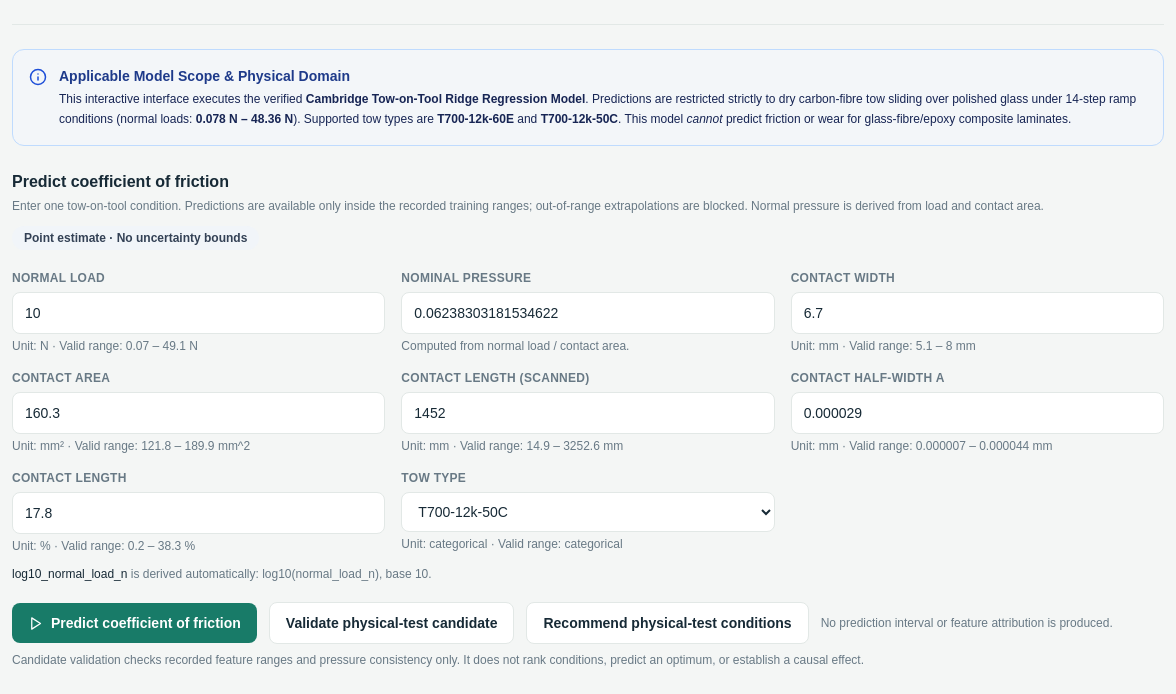
it: CofPredictionForm › surfaces an API error notice when the request fails
Click the button "Predict coefficient of friction": (134, 623) [12, 603, 257, 643]
(page scrolled)
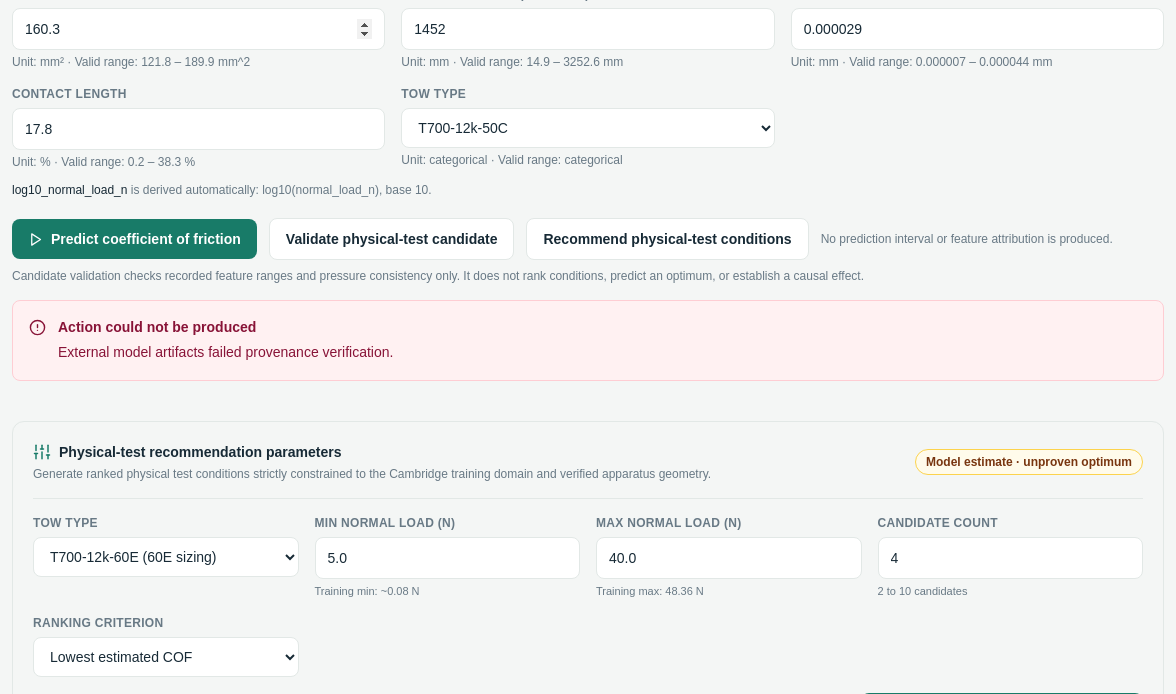
Expected: the text "External model artifacts failed provenance verification." is shown, [58, 341, 393, 364]
